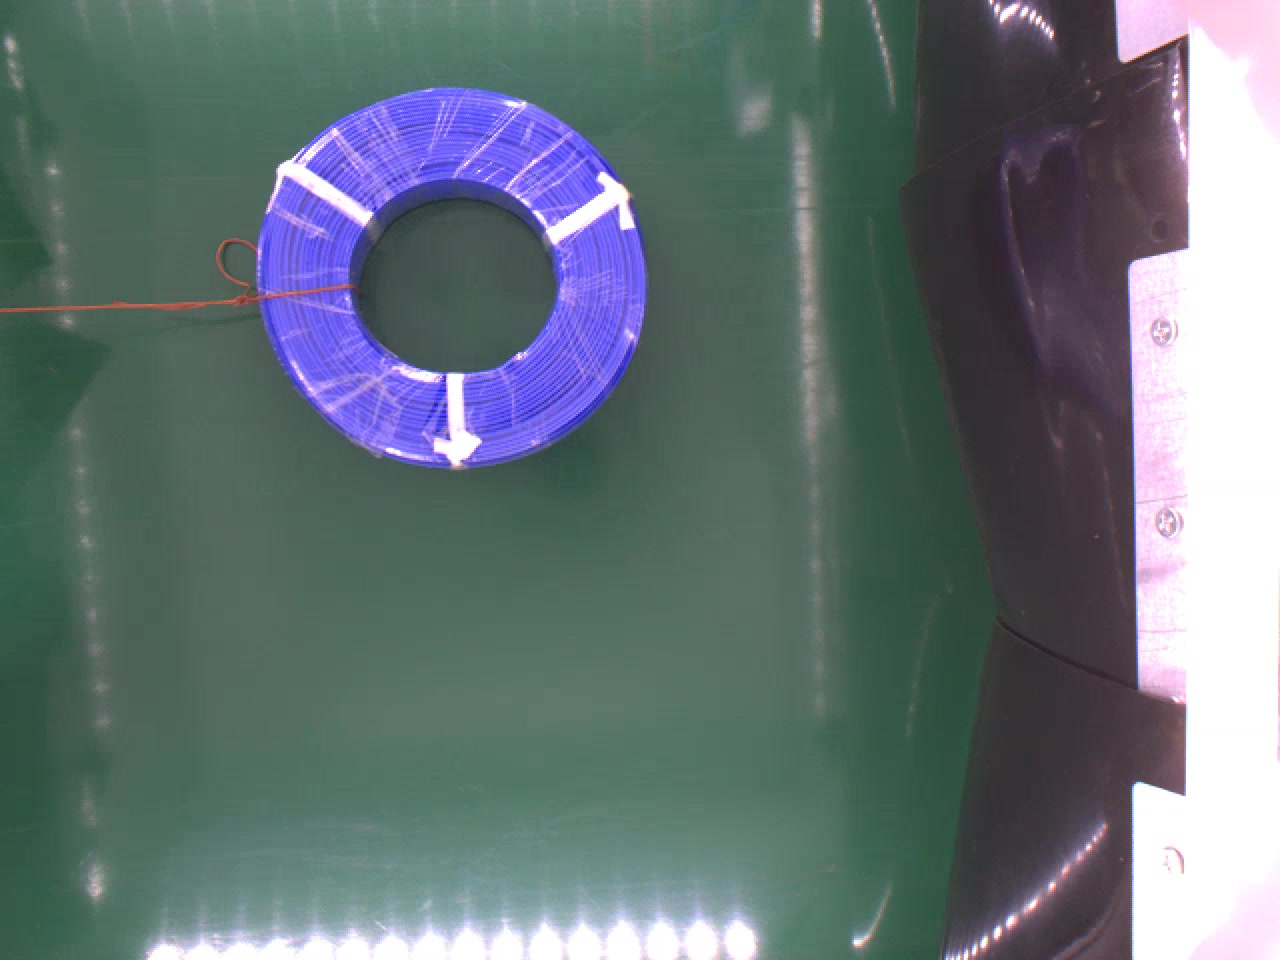blue: (252, 83, 650, 477)
